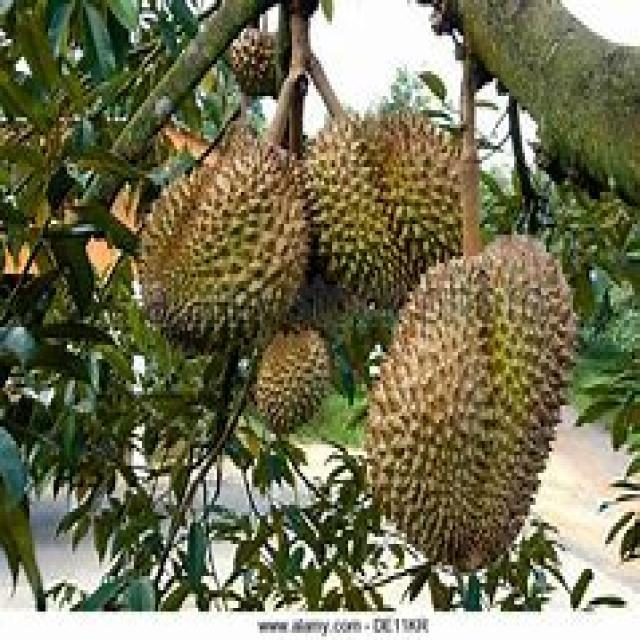mature: (368, 239, 575, 568), (138, 123, 310, 350)
